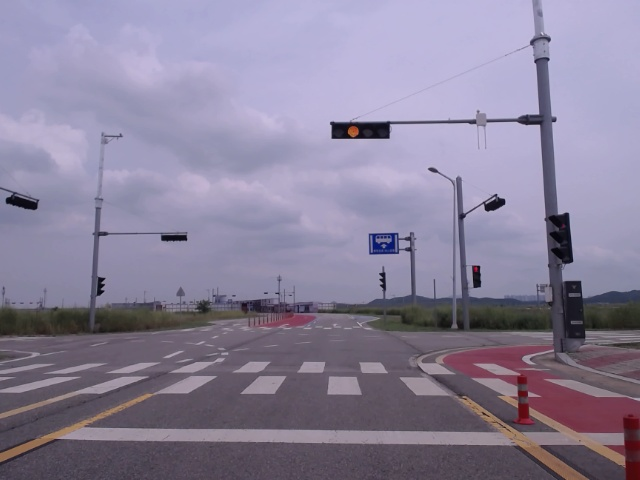orange_4: (330, 121, 391, 140)
